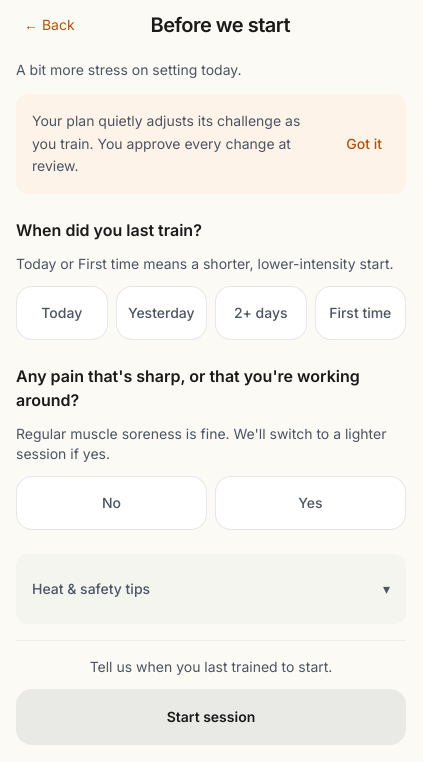
Test case: SafetyCheckScreen steering trace (trust-loop U4) › suppresses the evergreen gloss while the first-steer disclosure is showing (T2)
Expected: the text "Your plan quietly adjusts its challenge as you train" is shown, [32,112,300,174]
Expected: the button "how sessions adapt" is not shown
// Dismissing the disclosure reveals the evergreen gloss in its place.
What coordinates should you click on to do the following:
click the button "Got it"
I would click on:
 (364, 144)
Its box is [330,117,398,171].
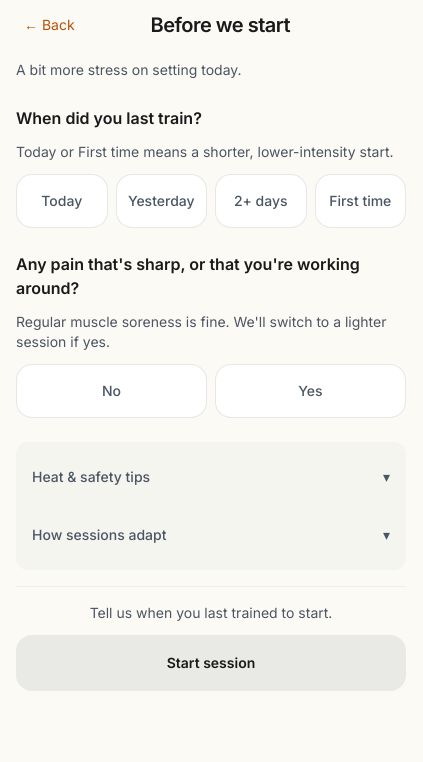
Now the button "How sessions adapt ▾" is shown, box [32,508,390,562]
